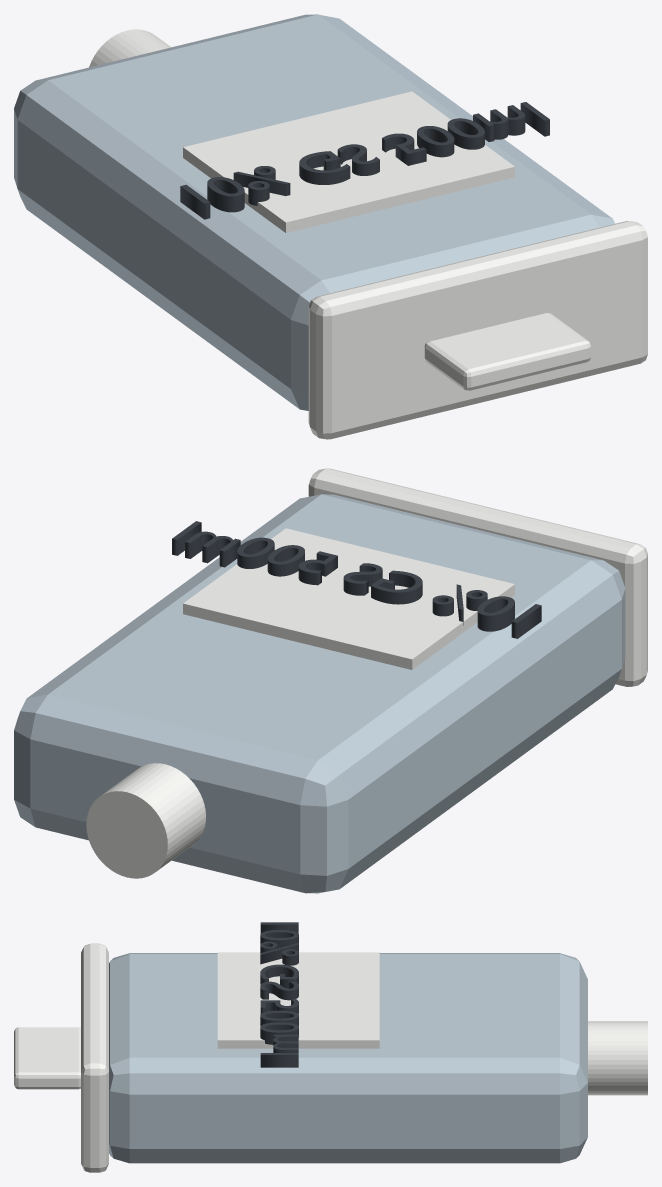
Rendered from BAG2.glb.
3 renders of one model, top to bottom at view 1: azimuth 30°, elevation 25°; view 2: azimuth 150°, elevation 25°; view 3: azimuth 270°, elevation 25°, orthographic. The views are drawn at different scales.
Visible parts, largest first — view 1: bag, seal, label, labeltxt, hanger, port; view 2: bag, label, seal, port, labeltxt; view 3: bag, label, seal, labeltxt, port, hanger.
Boxes of the visible parts, x1,y1,x2,y2 form: bag: (14,14,614,410); seal: (308,221,647,439); label: (183,91,514,232); labeltxt: (180,102,549,219); hanger: (424,313,590,390); port: (89,29,170,67); bag: (14,494,625,893); label: (183,528,514,669); seal: (308,468,647,686); port: (86,763,205,878); labeltxt: (172,521,541,638); bag: (109,953,587,1163); label: (217,952,379,1048); seal: (81,943,108,1172); labeltxt: (260,922,298,1067); port: (588,1021,647,1095); hanger: (14,1027,80,1089).
Size of the model in its own units: 0.1358 by 0.06 by 0.274.
